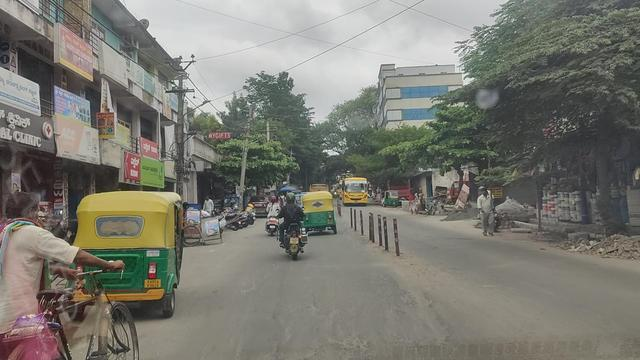LMV: (75, 194, 180, 298), (284, 191, 306, 261), (303, 192, 335, 232), (268, 196, 280, 240)
RoadDamages: (396, 271, 446, 332), (303, 334, 371, 360), (258, 324, 291, 360)
